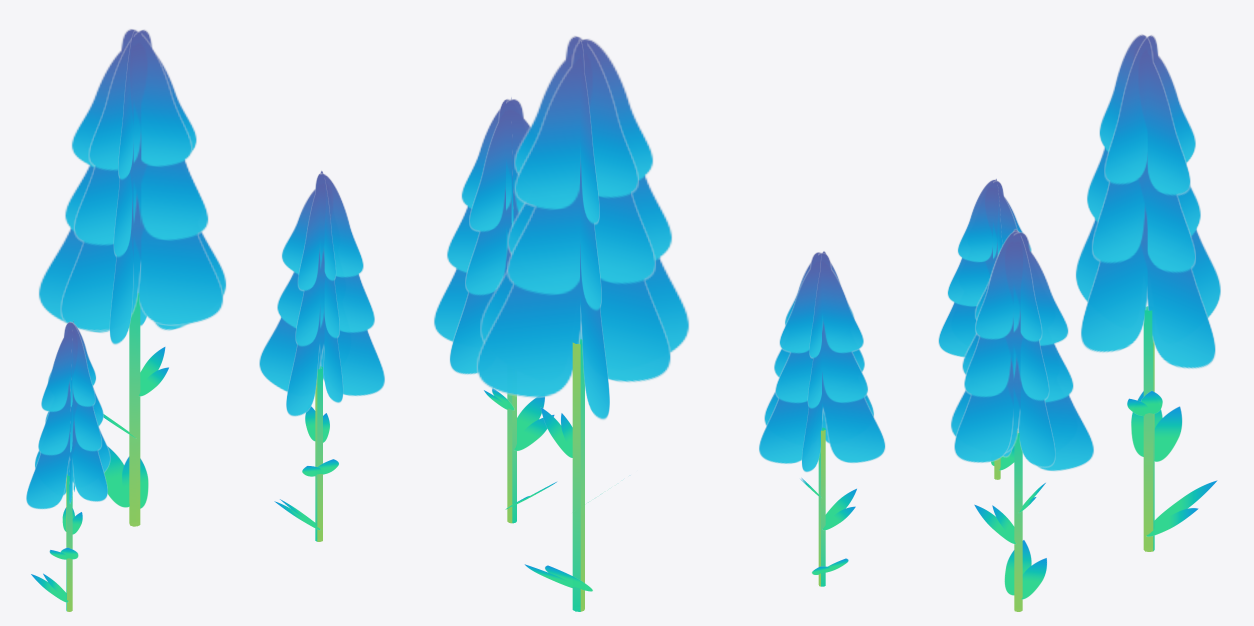
File: Flowers_n02_13.glb
3 views of the same model, side by side, from view 1: azimuth 30°, elevation 25°; view 2: azimuth 150°, elevation 25°; view 3: azimuth 270°, elevation 25° (orthographic). The views are drawn at different scales.
Parts seen in each view (by area): view 1: polySurface316; view 2: polySurface316; view 3: polySurface316.
Part boxes in pixels (<box>): polySurface316: <box>26,28,384,611</box>; polySurface316: <box>433,35,885,611</box>; polySurface316: <box>938,34,1220,611</box>.
Bounding box in the file's own units: 0.3356 × 0.4259 × 0.2288.
1 material, 1 textured.
